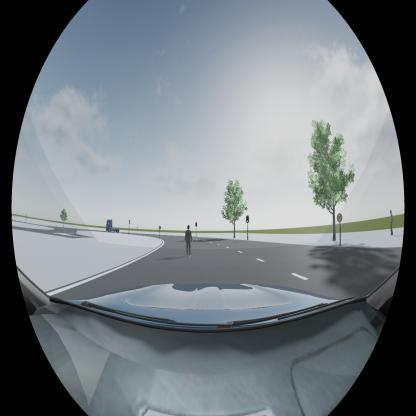Green Light: (246, 215, 249, 223)
Red Light: (195, 221, 197, 226)
